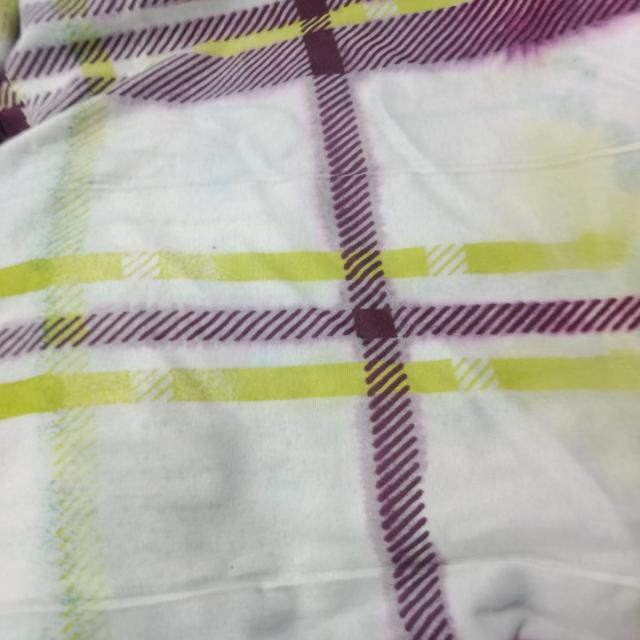baekra: (21, 4, 640, 416), (357, 420, 465, 640)
